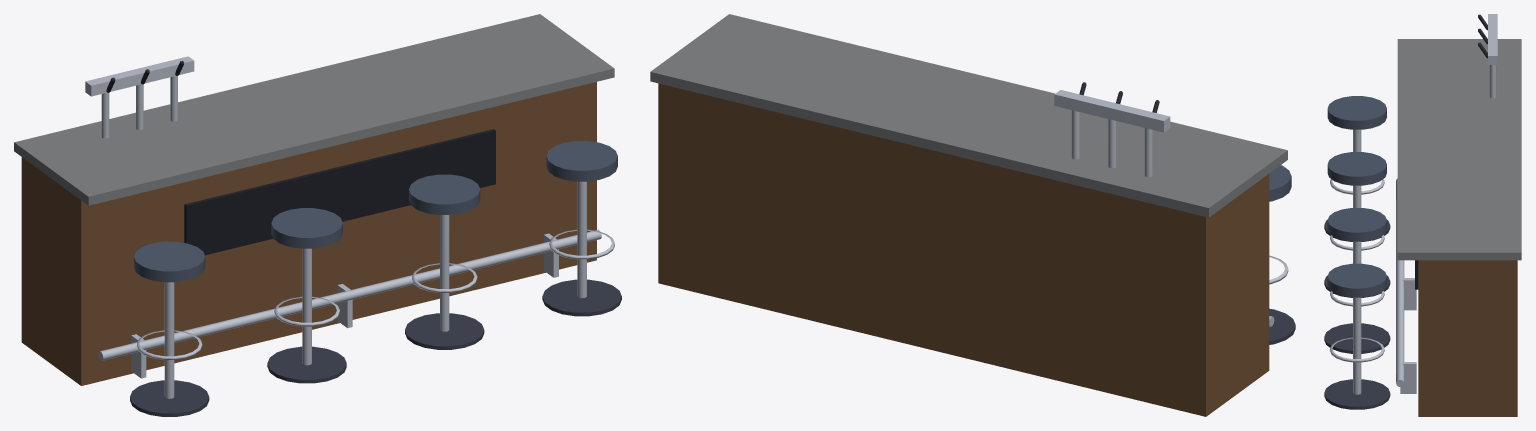
The model's file is hsp-013.glb.
3 renders of one model, left to right at view 1: azimuth 30°, elevation 25°; view 2: azimuth 150°, elevation 25°; view 3: azimuth 270°, elevation 25°, orthographic. The views are drawn at different scales.
Parts seen in each view (by area): view 1: walnut, stone_top, steel, sign_panel, upholstery, dark_steel; view 2: walnut, stone_top, steel, dark_steel, upholstery; view 3: stone_top, walnut, upholstery, steel, dark_steel, plastic_dark.
Part boxes in pixels (x1,y1,x2,y2): walnut: (21,82,596,385); stone_top: (14,14,614,205); steel: (85,56,614,398); sign_panel: (184,129,495,255); upholstery: (134,141,617,282); dark_steel: (130,279,621,416); walnut: (658,83,1269,416); stone_top: (650,14,1287,217); steel: (1054,90,1288,326); dark_steel: (1269,308,1295,344); upholstery: (1269,165,1291,201); stone_top: (1397,39,1521,260); walnut: (1418,260,1517,416); upholstery: (1327,96,1386,297); steel: (1330,14,1497,394); dark_steel: (1324,219,1390,409); plastic_dark: (1478,14,1487,58).
Size of the model in its own units: 3.06 by 1.47 by 1.19.
